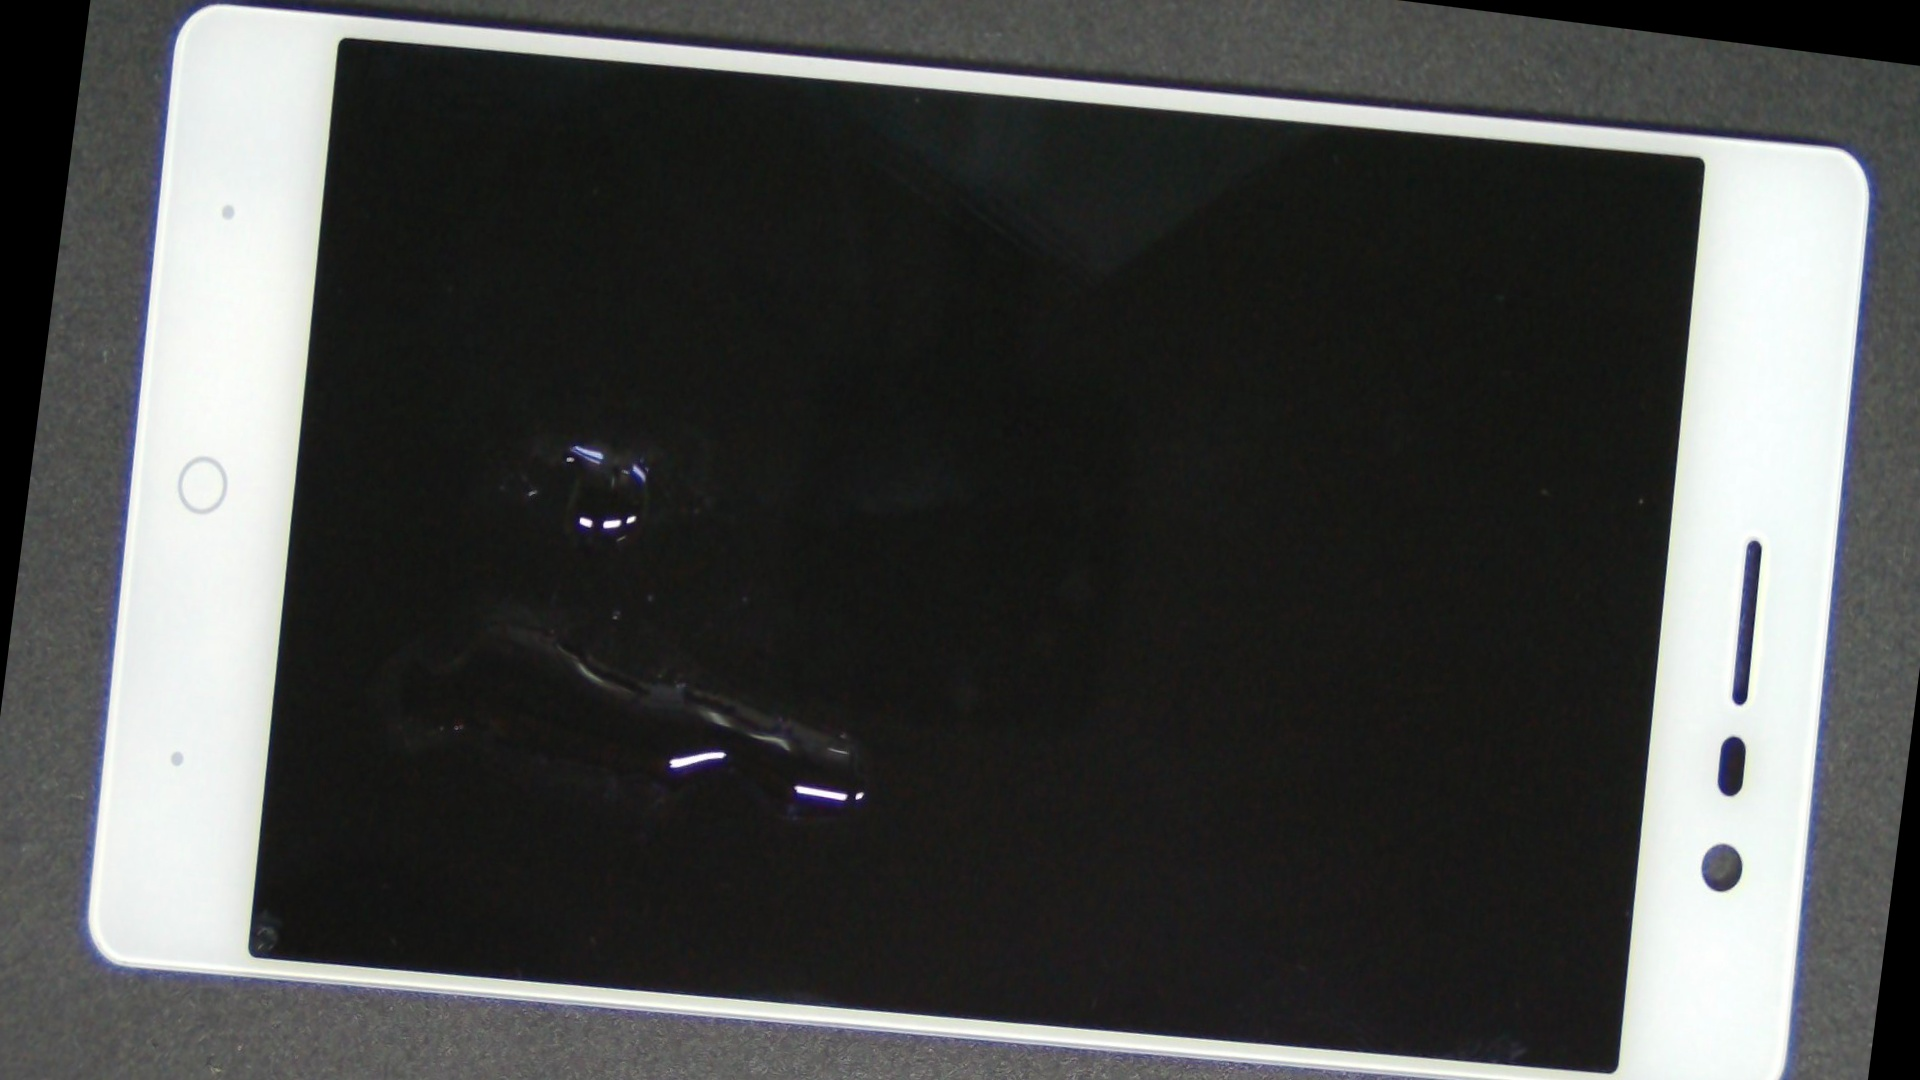oil: (220, 229, 802, 1015), (273, 140, 868, 746)
